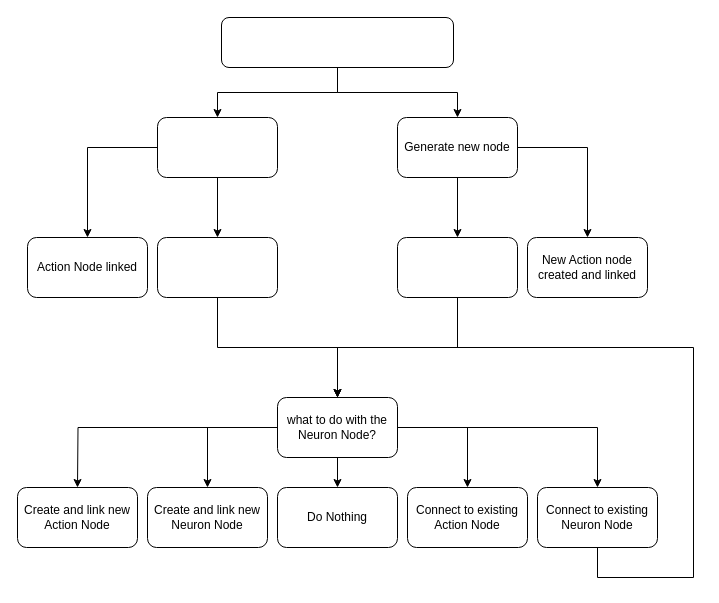
This 719x603 diagram has some shape labels left out. Each missing label, with the centre of its shape:
"Existing Neuron node linked" goes at point 217,267.
"link to existing node" goes at point 217,147.
"New Input Node created (if input type already existing, use that one)" goes at point 337,42.
"New Neuron Node created and linked" goes at point 457,267.
